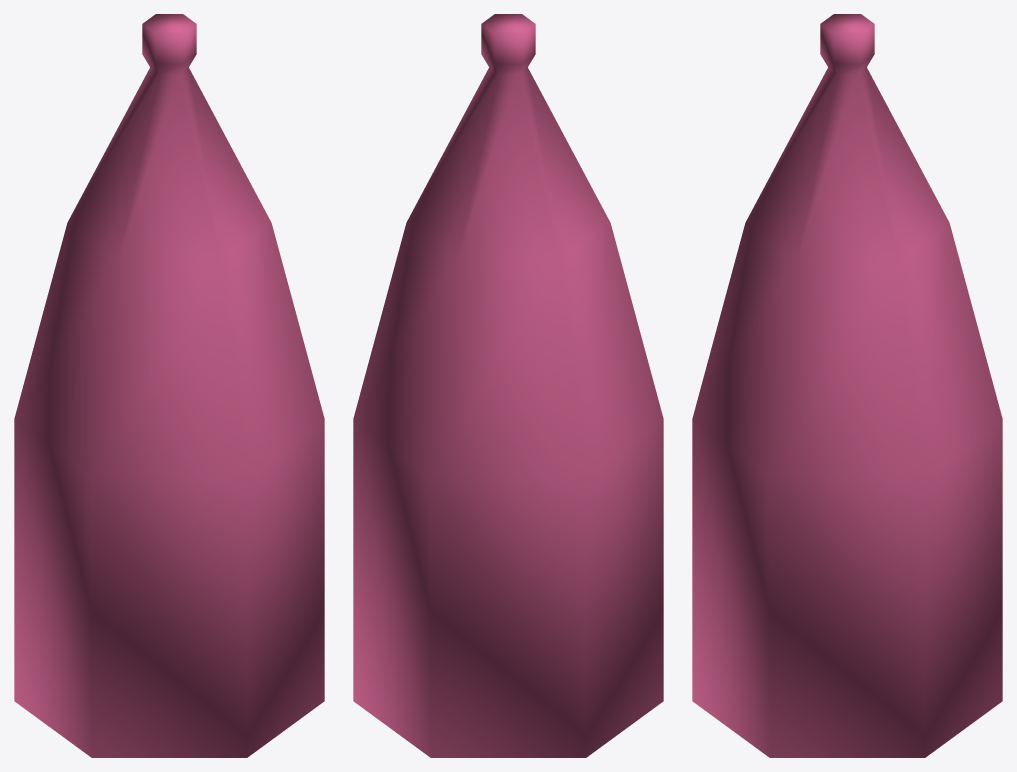
Rendered from drink_bottle_pink.fbx.
3 renders of one model, left to right at view 1: azimuth 30°, elevation 25°; view 2: azimuth 150°, elevation 25°; view 3: azimuth 270°, elevation 25°, orthographic.
Visible parts, largest first — view 1: Cylinder; view 2: Cylinder; view 3: Cylinder.
Part boxes in pixels (left/top/right/bottom): Cylinder: left=14, top=14, right=324, bottom=757; Cylinder: left=353, top=14, right=663, bottom=757; Cylinder: left=692, top=14, right=1002, bottom=757.
Size of the model in its own units: 173 by 481 by 200.
